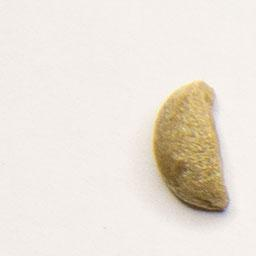defect: (148, 76, 237, 216)
